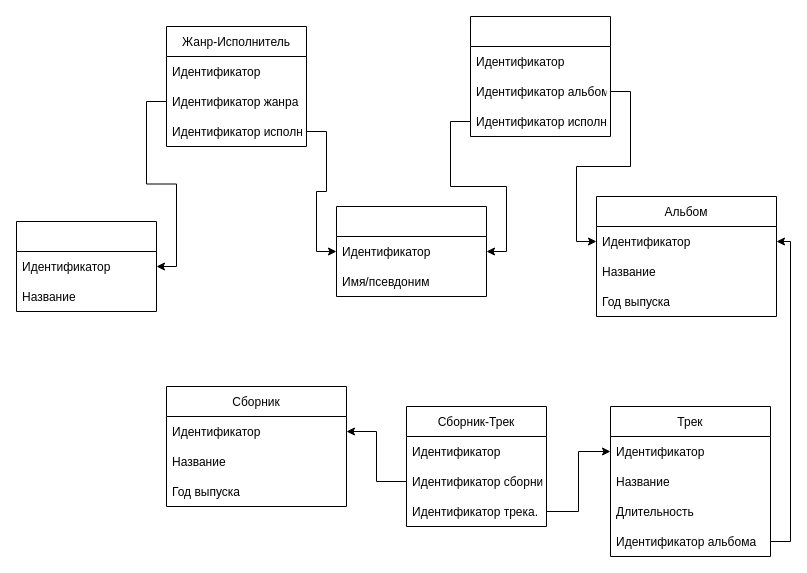
The diagram is 807 pixels wide and 573 high, and some of its shapes have lost their labels. Here are the shapes that lost their labels. From the top down, the box of each, then its label:
(470, 16, 610, 136): Исполнитель-Альбом
(16, 220, 156, 312): Жанр
(336, 206, 486, 296): Исполнитель
